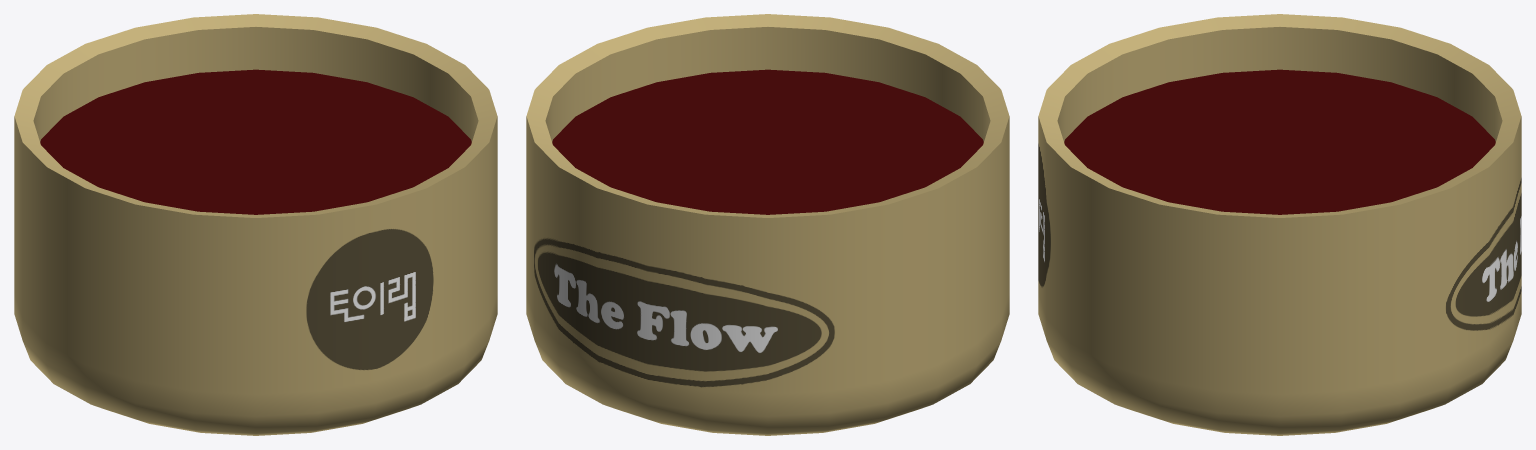
File: FlowerPot_01.fbx
3 renders of one model, left to right at view 1: azimuth 30°, elevation 25°; view 2: azimuth 150°, elevation 25°; view 3: azimuth 270°, elevation 25°, orthographic.
Parts seen in each view (by area): view 1: FlowerPot; view 2: FlowerPot; view 3: FlowerPot.
Boxes of the visible parts, x1,y1,x2,y2 form: FlowerPot: (14,14,497,435); FlowerPot: (526,14,1009,435); FlowerPot: (1038,14,1521,435).
Size of the model in its own units: 204 by 109 by 204.
Materials: 2 (1 with a texture image).
